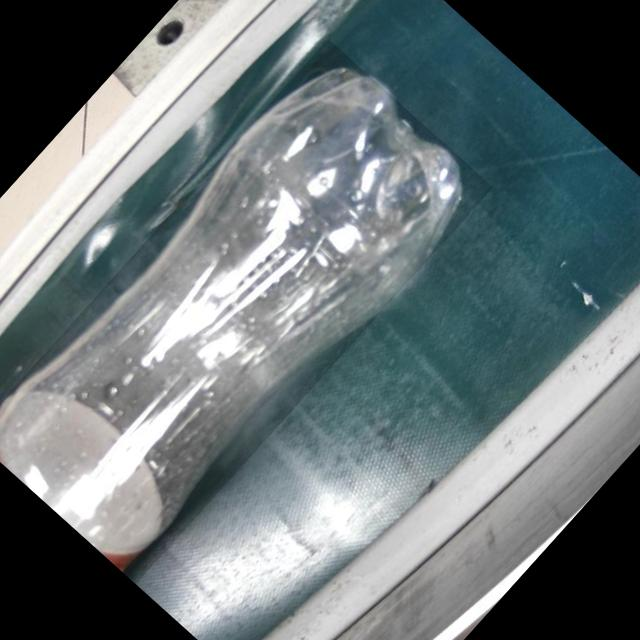BotolPlastik: (0, 35, 497, 587)
